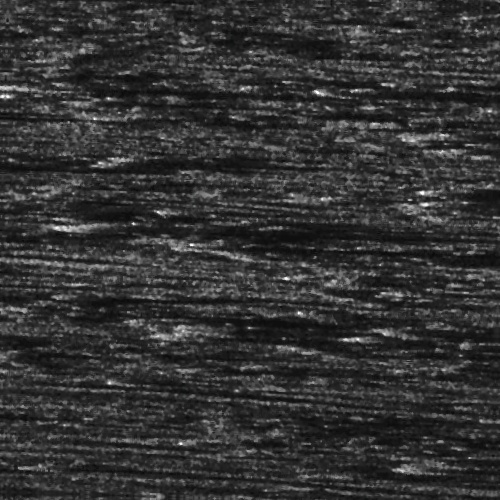object: (360, 447, 495, 474), (417, 154, 500, 179), (143, 240, 268, 253), (257, 80, 402, 91), (44, 223, 149, 236), (0, 85, 95, 96), (174, 330, 247, 343), (439, 119, 480, 136), (23, 467, 106, 474), (368, 319, 421, 328), (65, 100, 118, 109), (217, 218, 270, 223), (438, 179, 449, 190)
shadow: (97, 223, 451, 236), (0, 152, 290, 167), (206, 240, 500, 253), (42, 85, 280, 96), (211, 330, 407, 343), (428, 447, 500, 474), (329, 80, 500, 91), (92, 100, 268, 109), (244, 218, 489, 223), (65, 467, 191, 474), (459, 119, 500, 136), (443, 179, 500, 190), (395, 319, 463, 328), (0, 169, 127, 172), (0, 120, 69, 123)
